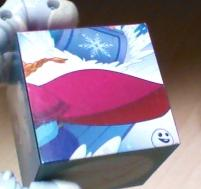Red1: (17, 23, 178, 162)
